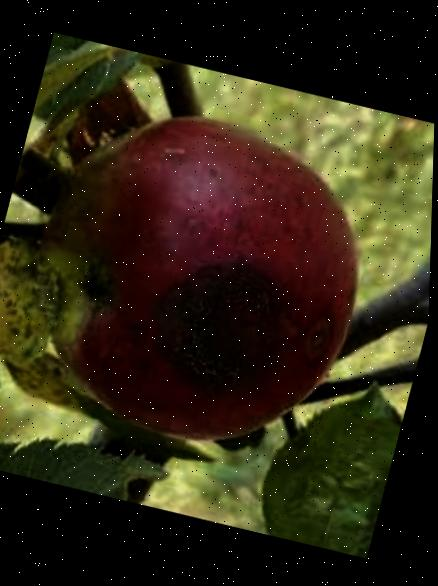SCAB: (0, 56, 406, 489)
